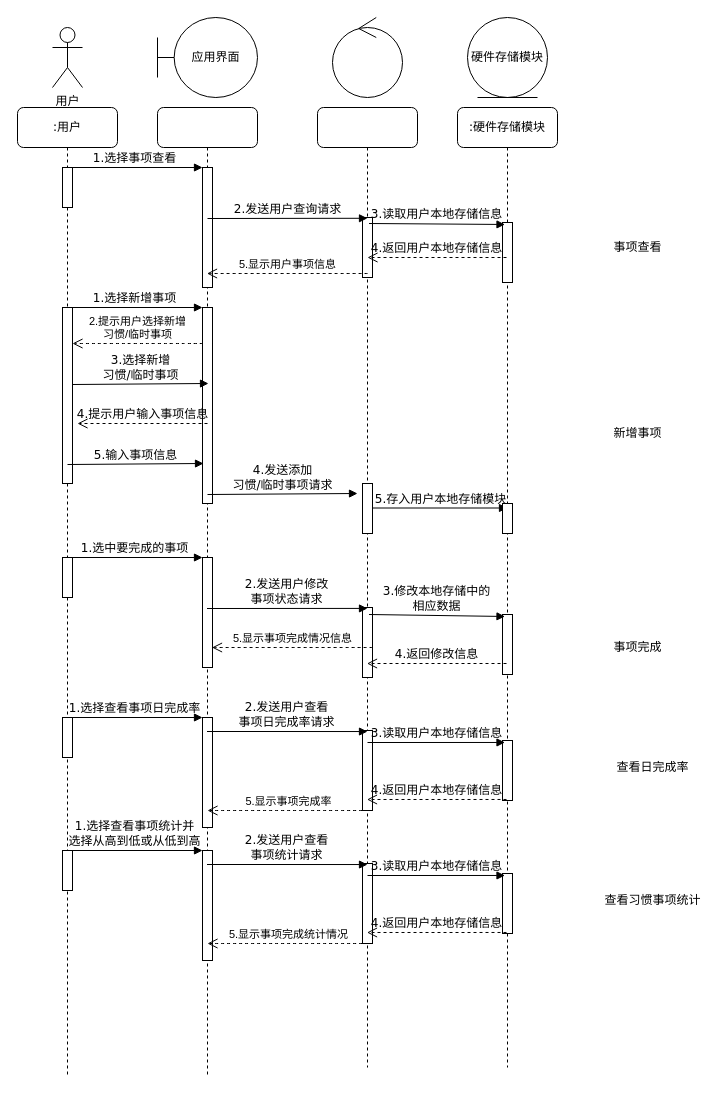
The diagram is 725 pixels wide and 1095 high, and some of its shapes have lost their labels. Each missing label, with the centre of its shape:
":事项模块" goes at point (367, 587).
":应用界面" goes at point (207, 592).
"事项模块" goes at point (367, 57).
